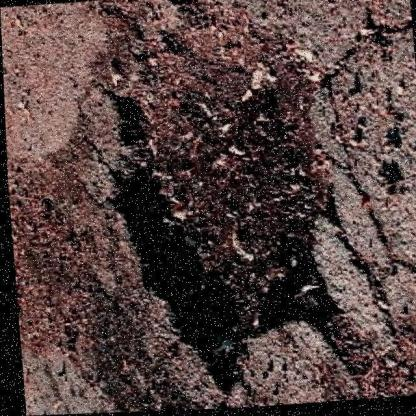pothole: (84, 0, 352, 406)
